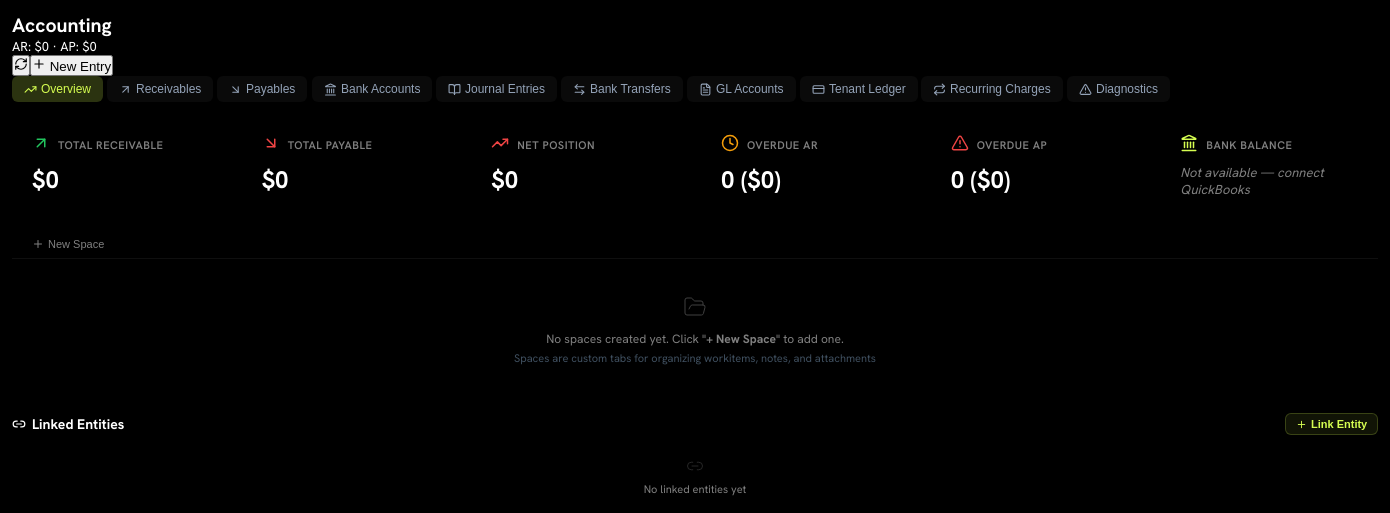
Test case: AccountingModule · empty account → honest empty states, never the old hardcoded arrays › Tenant Ledger: honest empty state, no fake tenants
The image size is (1390, 513).
Click the button "Tenant Ledger" at (858, 89), box [800,76,917,102]
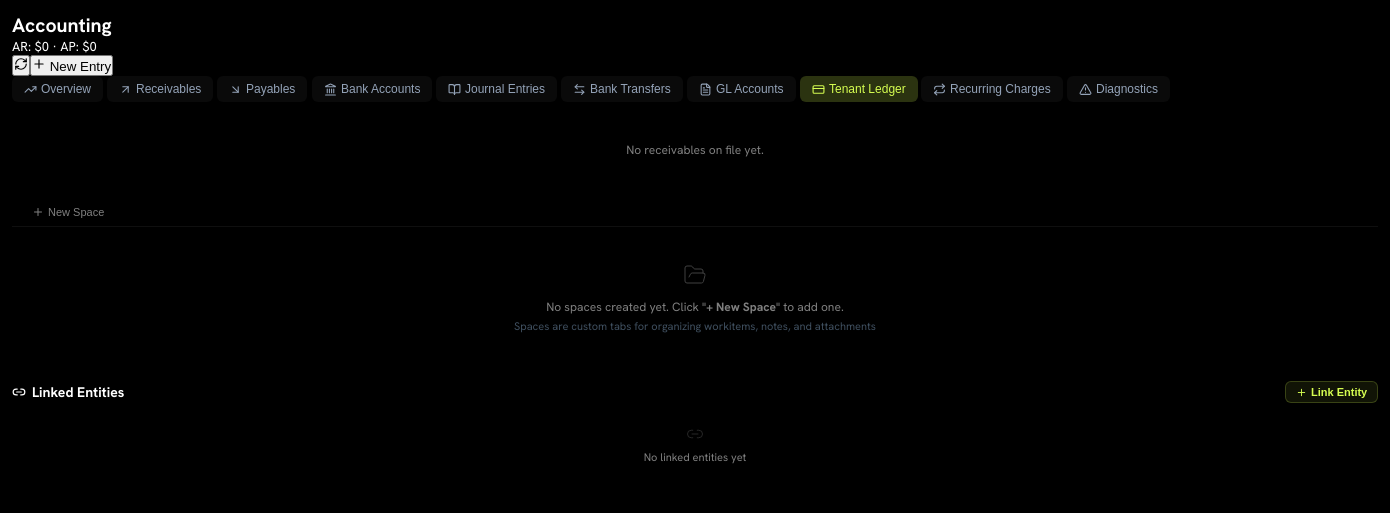
Expected: the text "No receivables on file yet." is shown, [626,142,764,158]
